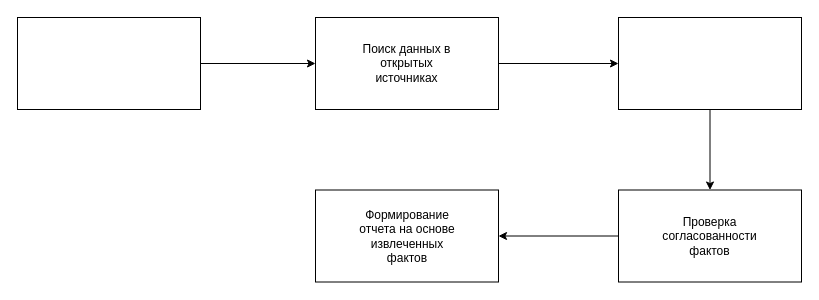
The diagram is 819 pixels wide and 300 high, and some of its shapes have lost their labels. The centre of each missing label's shape, as x and y in pixels:
"Извлечение фактов из найденных текстов" goes at [710,63].
"Построение прагматической модели" goes at [108,63].
